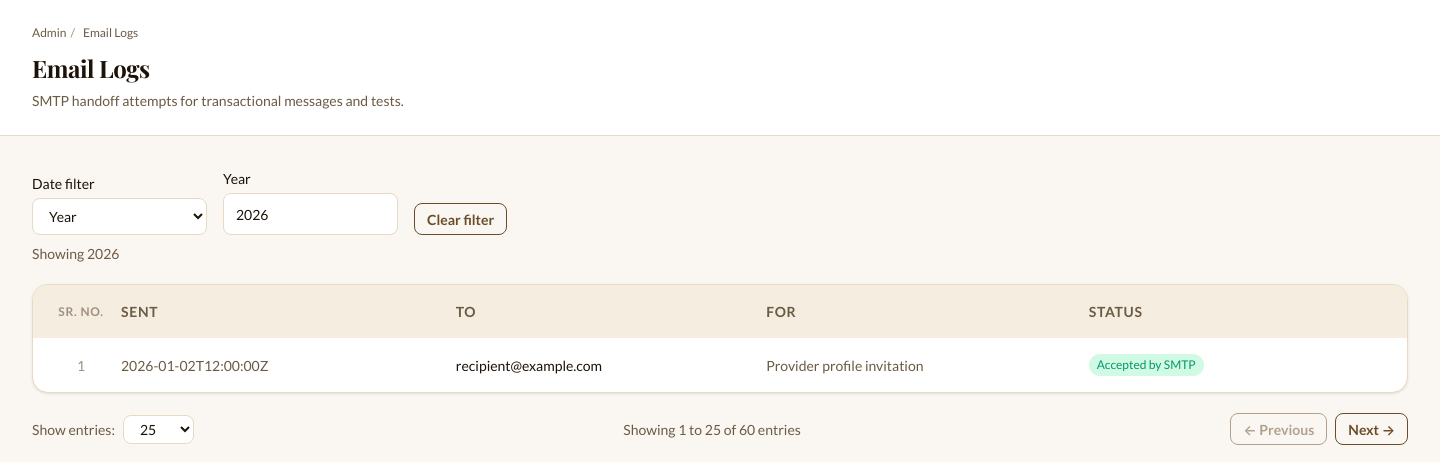
Test: EmailLogsPage › paginates filtered logs and resets the page when changing page size
Expected: the text "recipient@example.com" is shown, [456,356,602,374]
Expected: the button "← Previous" is disabled, [1230,413,1327,445]
Click the button "Next →" at (1372, 429), box [1335,413,1408,445]
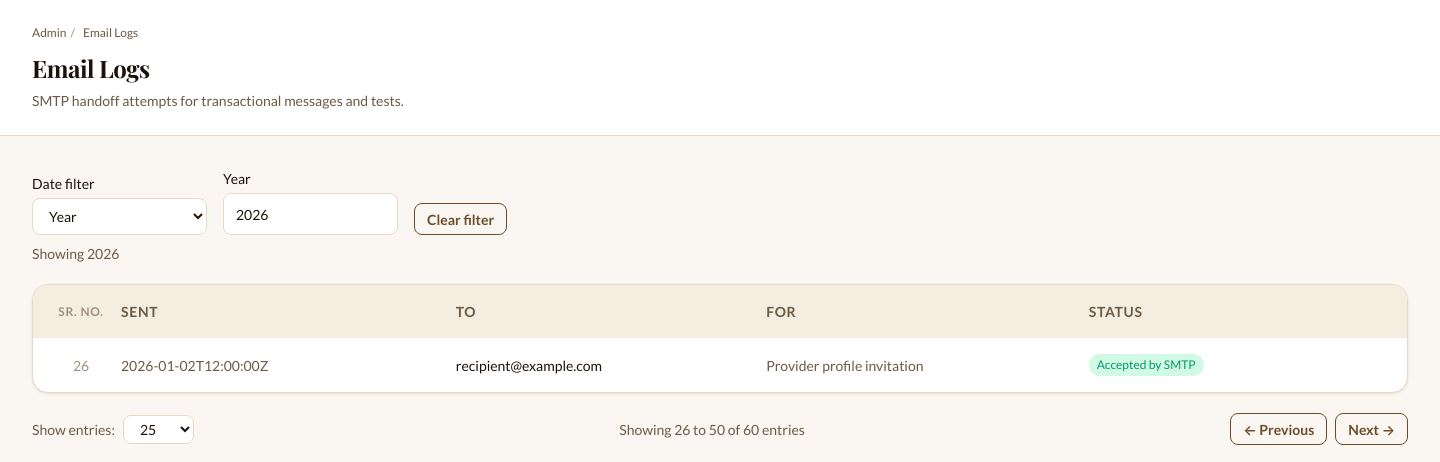
Expected: the text "Showing 26 to 50 of 60 entries" is shown, [619,418,805,440]
Click the button "← Previous" at (1279, 429), box [1230,413,1327,445]
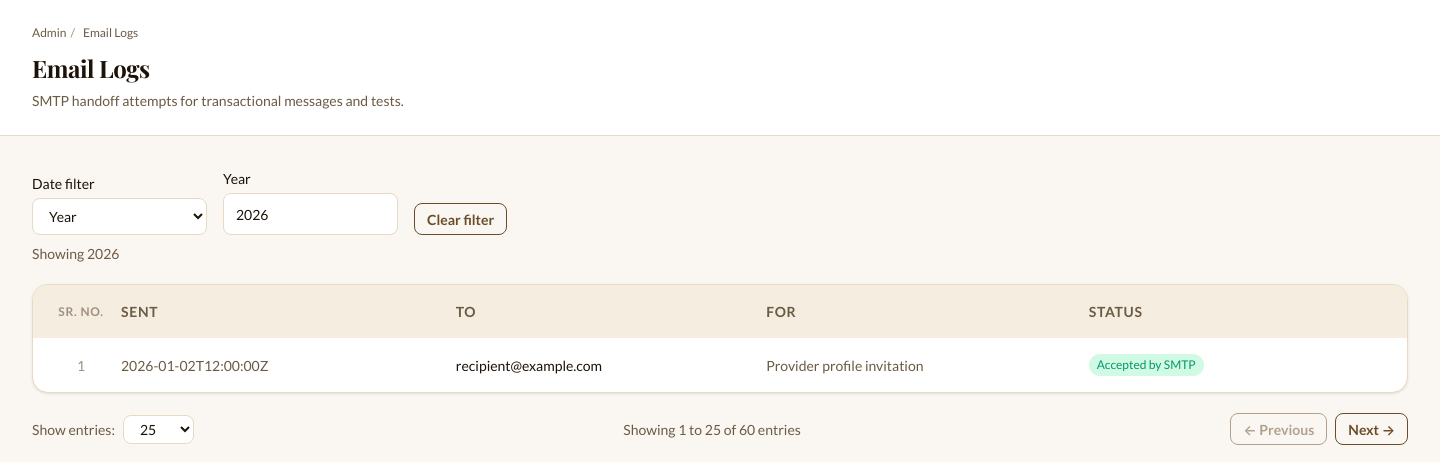
Expected: the text "Showing 1 to 25 of 60 entries" is shown, [623,418,801,440]
Click the button "Next →" at (1372, 429), box [1335,413,1408,445]
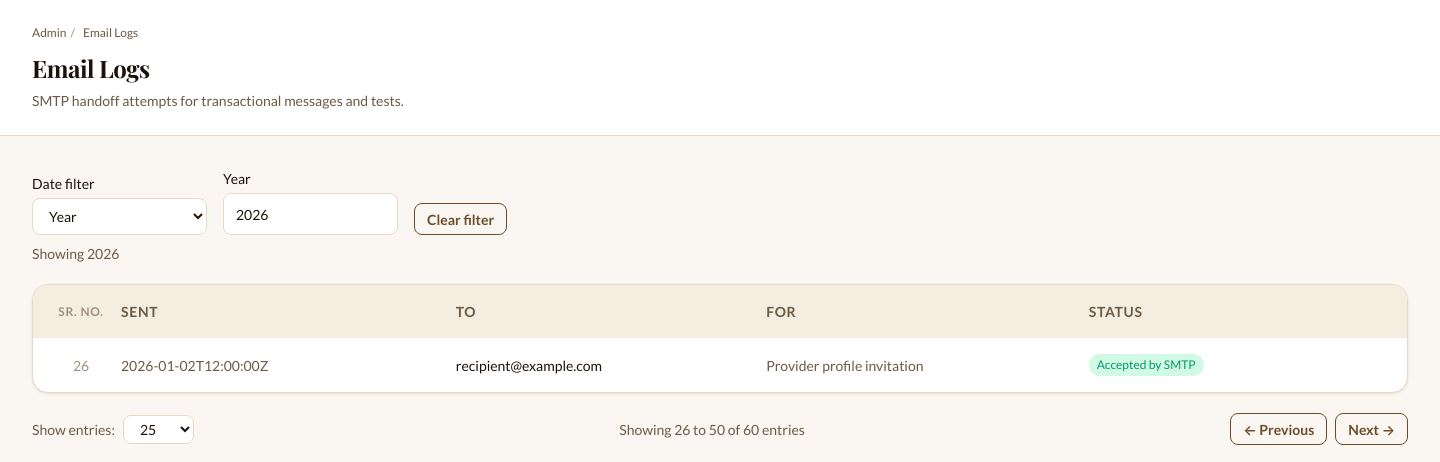
Expected: the text "Showing 26 to 50 of 60 entries" is shown, [619,418,805,440]
Select "100" in the dropdown named "Rows per page" at (158, 429), box [123,414,194,444]
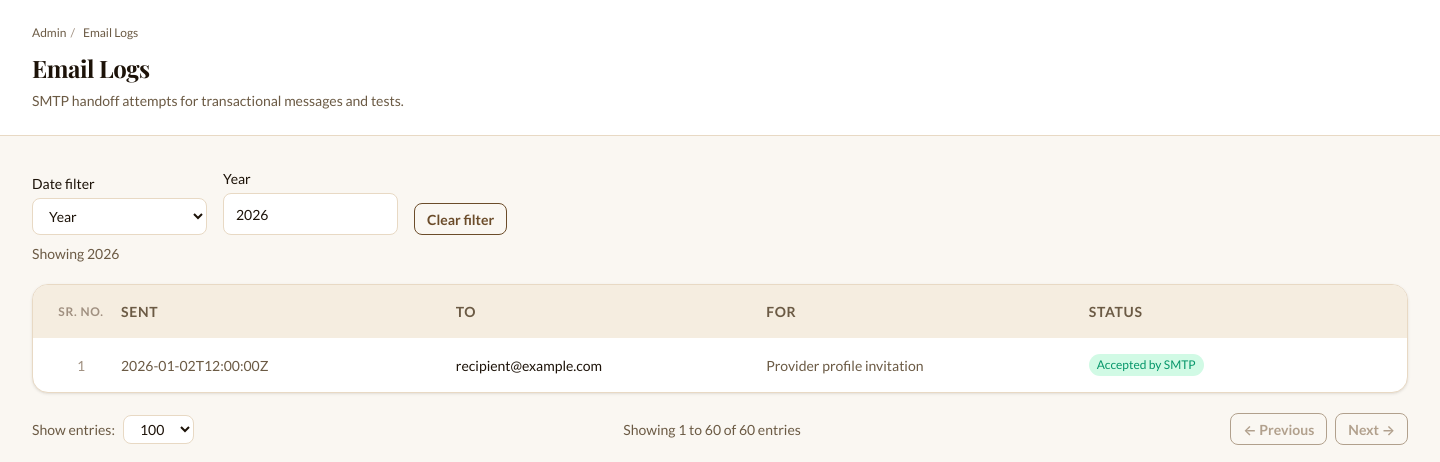
Expected: the text "Showing 1 to 60 of 60 entries" is shown, [623,418,801,440]
Expected: the button "Next →" is disabled, [1335,413,1408,445]
